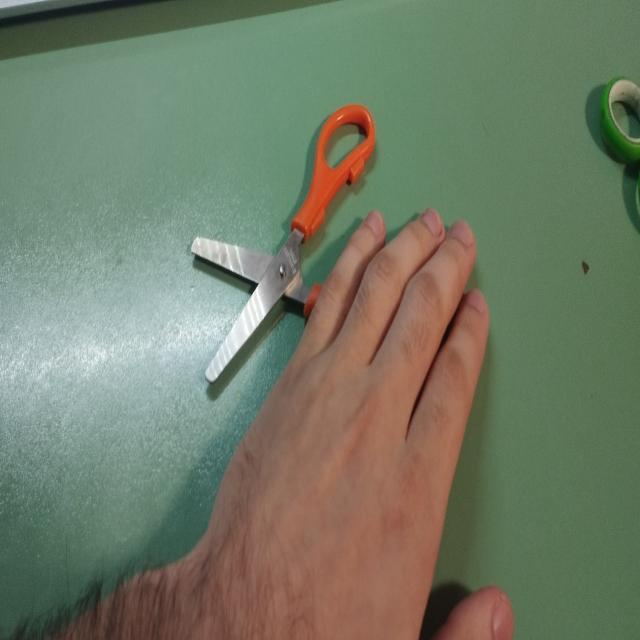tesoura: (185, 90, 402, 418)
